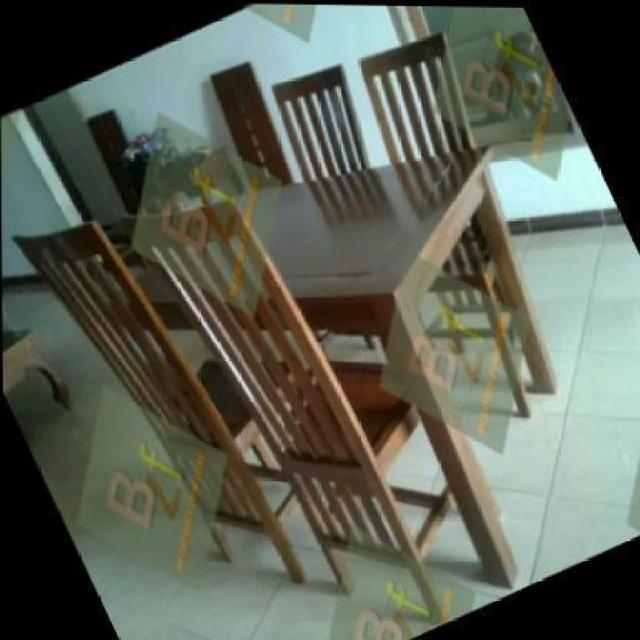tables: (126, 145, 525, 589)
